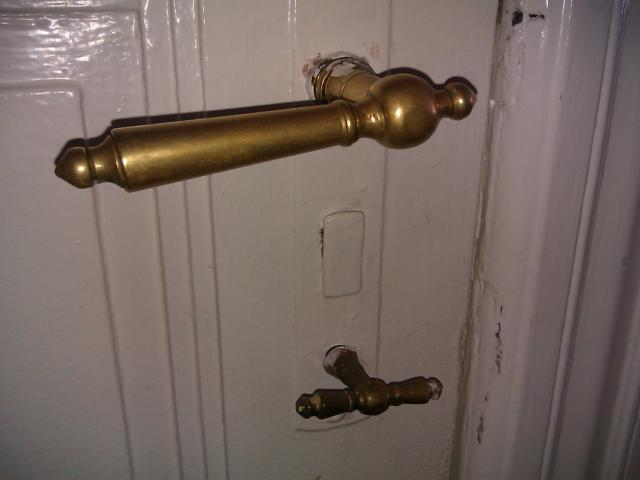Door-handle: (56, 58, 478, 194), (296, 345, 444, 421)
